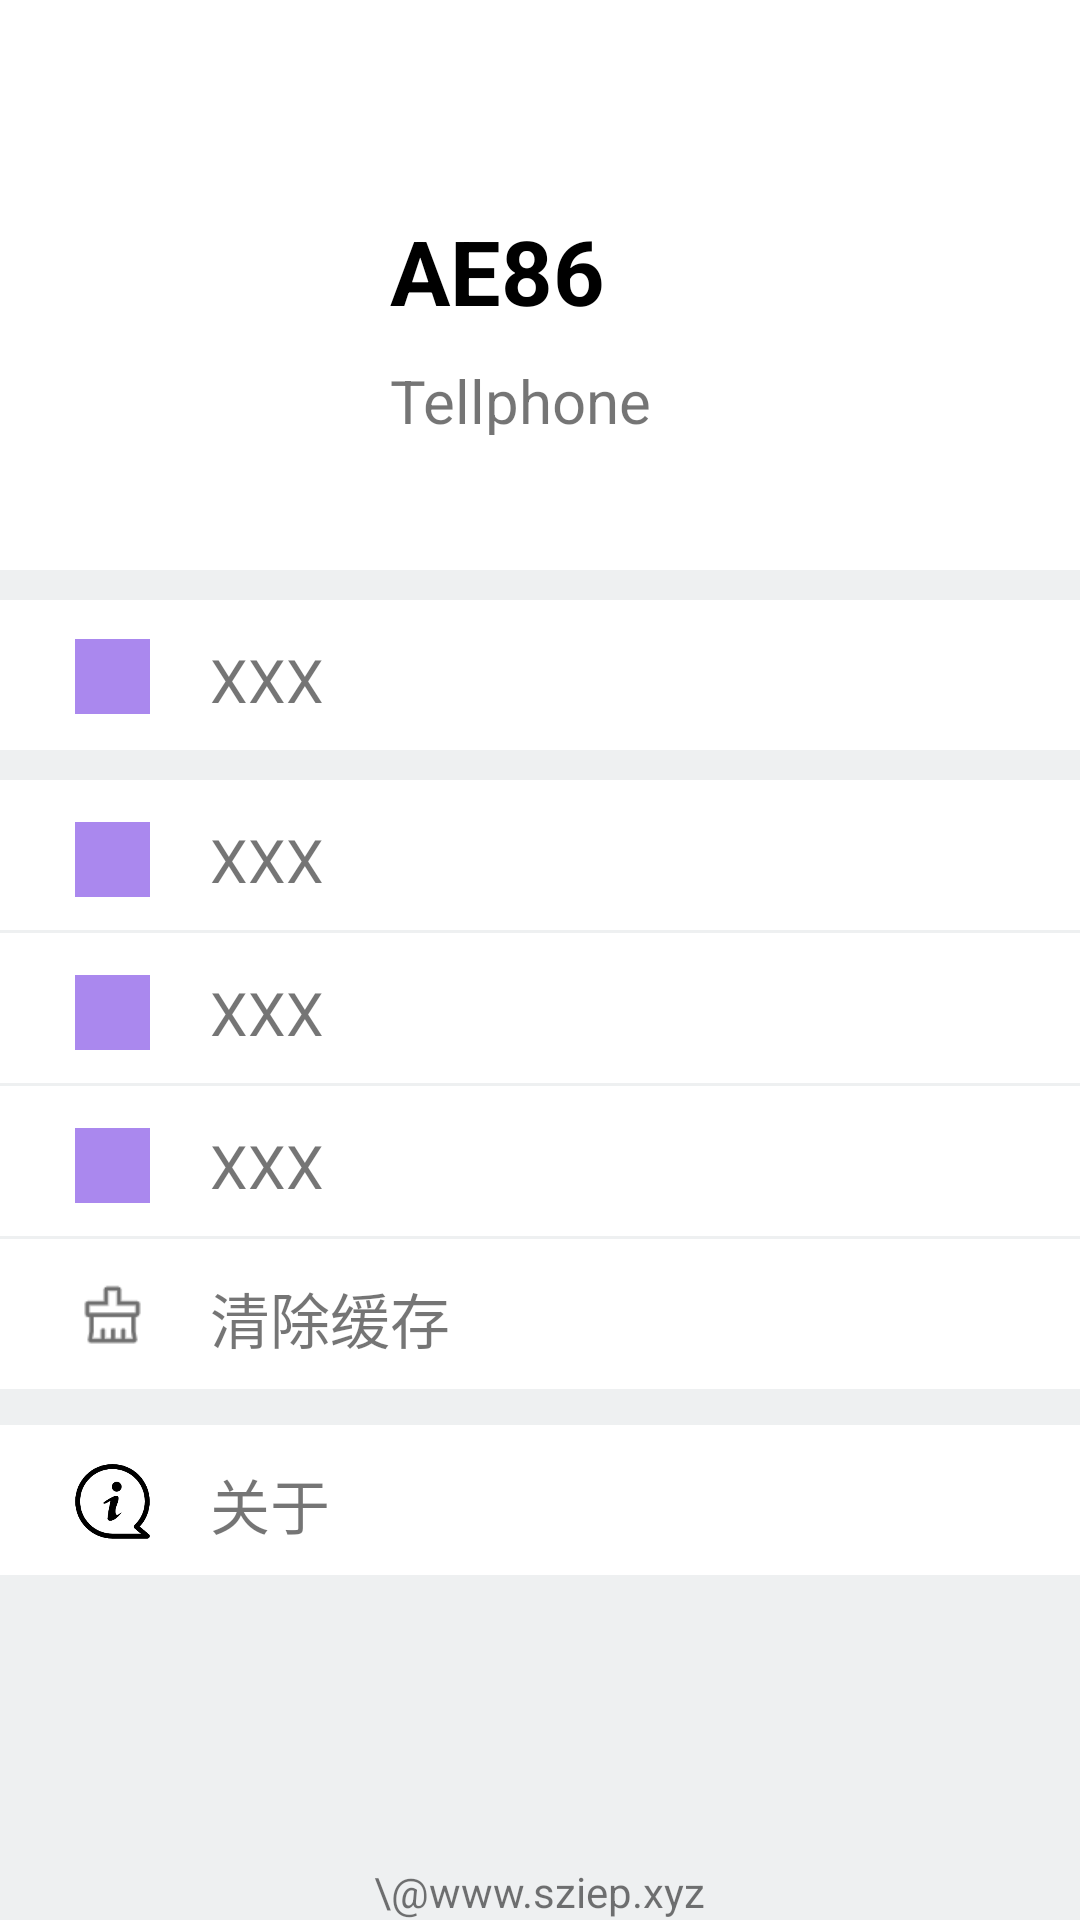

Point at icon controls on the screen. Image size 1080*1920, points as (x=x, y=y).
about: (x=112, y=1501)
cache: (x=112, y=1315)
